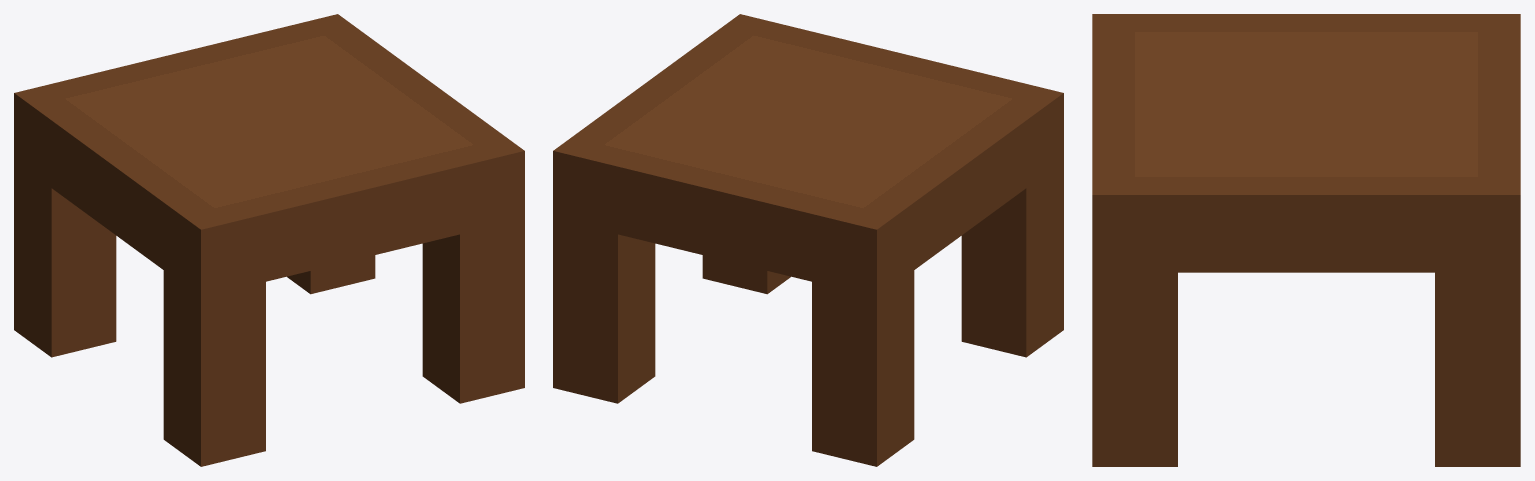
File: stool_wood.dae
3 views of the same model, side by side, from view 1: azimuth 30°, elevation 25°; view 2: azimuth 150°, elevation 25°; view 3: azimuth 270°, elevation 25° (orthographic). The views are drawn at different scales.
Parts seen in each view (by area): view 1: stool_wood; view 2: stool_wood; view 3: stool_wood.
Part boxes in pixels (box(x1,y1,x2,y2)): stool_wood: box(14, 14, 524, 466); stool_wood: box(553, 14, 1063, 466); stool_wood: box(1092, 14, 1520, 466).
Bounding box in the file's own units: 1 × 0.7 × 1.
1 material, 1 textured.
